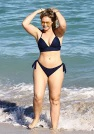female: (38, 8, 59, 35)
